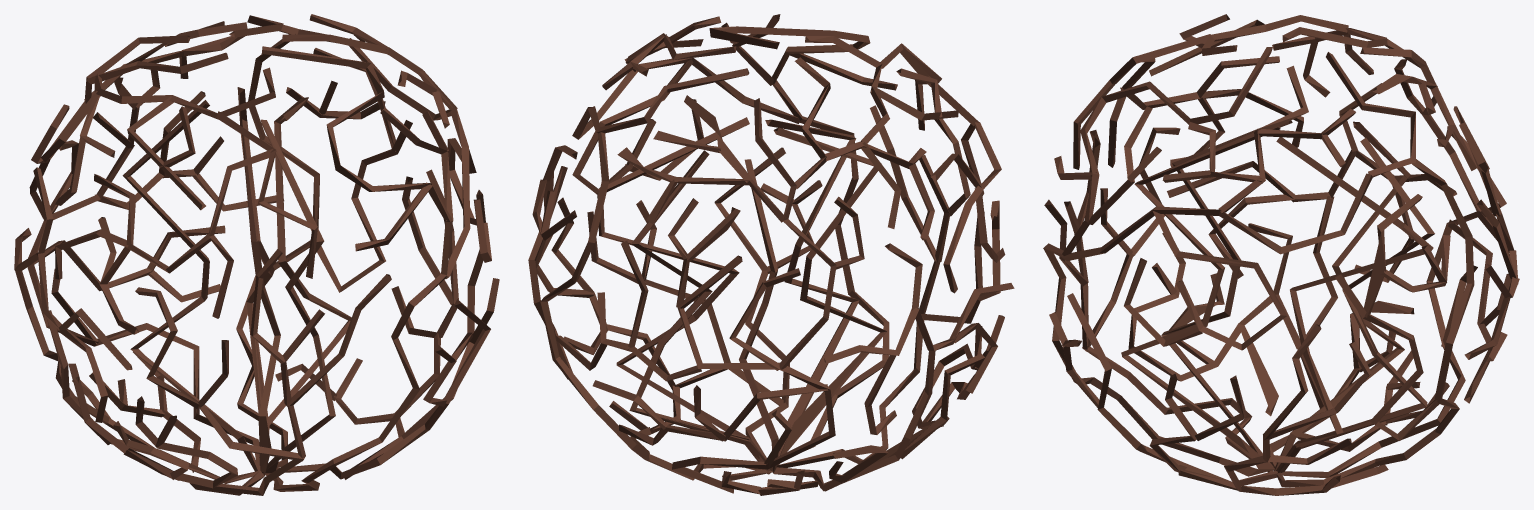
The model's file is Tumbleweed1.fbx.
3 renders of one model, left to right at view 1: azimuth 30°, elevation 25°; view 2: azimuth 150°, elevation 25°; view 3: azimuth 270°, elevation 25°, orthographic.
Parts seen in each view (by area): view 1: Plane.004; view 2: Plane.004; view 3: Plane.004.
Boxes of the visible parts, bbox=[...] form: Plane.004: bbox=[14, 14, 499, 495]; Plane.004: bbox=[528, 14, 1014, 495]; Plane.004: bbox=[1043, 14, 1519, 495].
Size of the model in its own units: 194 by 196 by 197.
